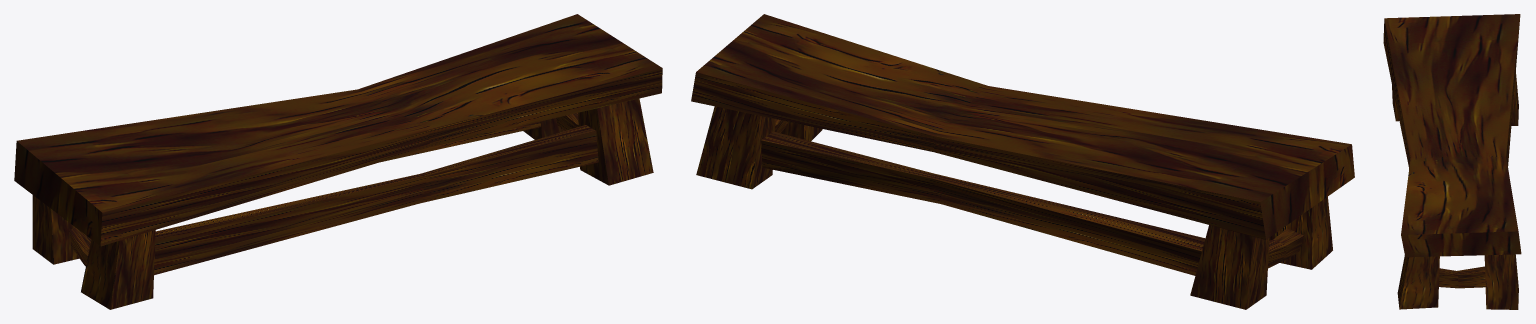
File: Bench01.glb
3 renders of one model, left to right at view 1: azimuth 30°, elevation 25°; view 2: azimuth 150°, elevation 25°; view 3: azimuth 270°, elevation 25°, orthographic. The views are drawn at different scales.
Visible parts, largest first — view 1: Bench01; view 2: Bench01; view 3: Bench01.
Boxes of the visible parts, x1,y1,x2,y2 form: Bench01: (14, 14, 662, 309); Bench01: (691, 14, 1354, 309); Bench01: (1383, 14, 1521, 309).
Size of the model in its own units: 2.38 by 0.4421 by 0.6406.
1 material, 1 textured.
